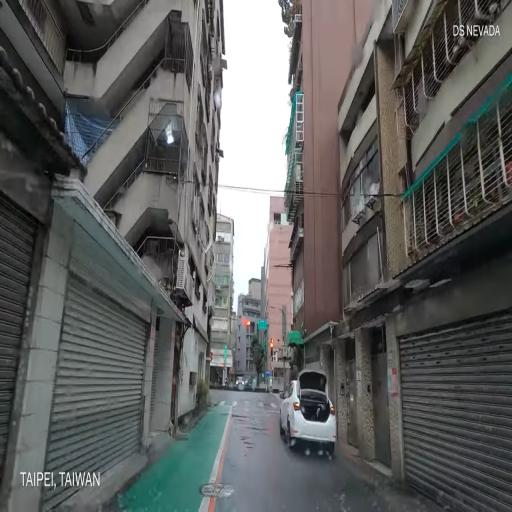Car: (281, 372, 337, 454)
